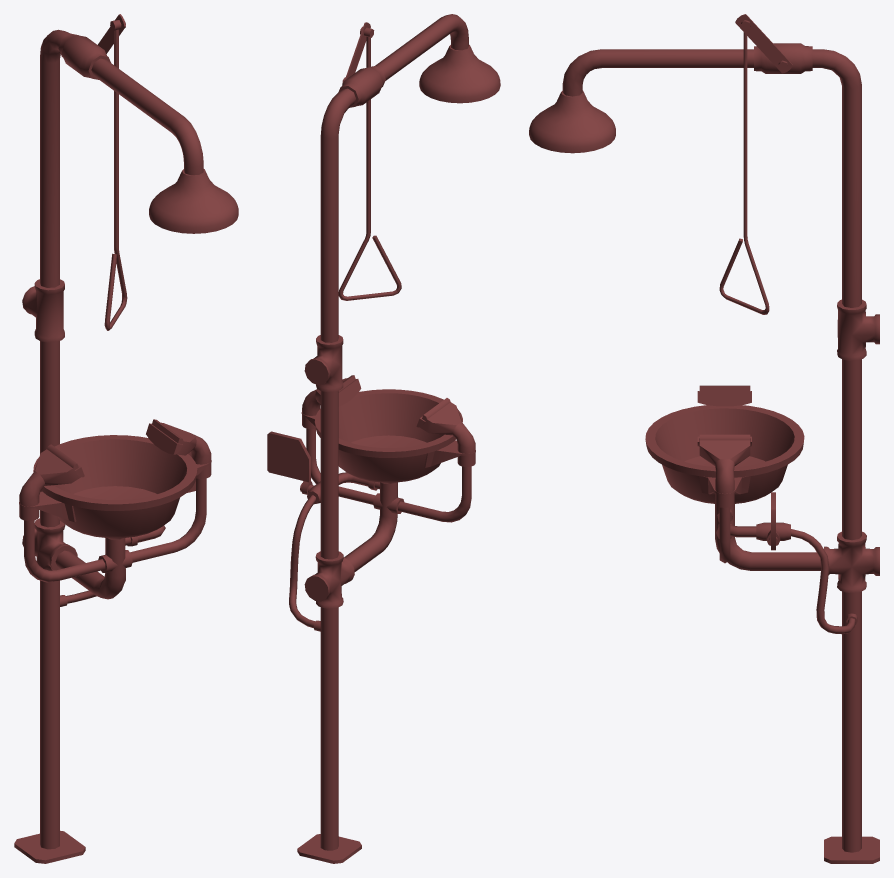
File: washstation.glb
3 renders of one model, left to right at view 1: azimuth 30°, elevation 25°; view 2: azimuth 150°, elevation 25°; view 3: azimuth 270°, elevation 25°, orthographic. The views are drawn at different scales.
Visible parts, largest first — view 1: SM_Eye_Wash_Station_01a; view 2: SM_Eye_Wash_Station_01a; view 3: SM_Eye_Wash_Station_01a.
Boxes of the visible parts, bbox=[...] form: SM_Eye_Wash_Station_01a: bbox=[14, 14, 238, 863]; SM_Eye_Wash_Station_01a: bbox=[267, 14, 500, 863]; SM_Eye_Wash_Station_01a: bbox=[529, 14, 879, 863].
Bounding box in the file's own units: 0.5702 × 2.34 × 0.8794.
